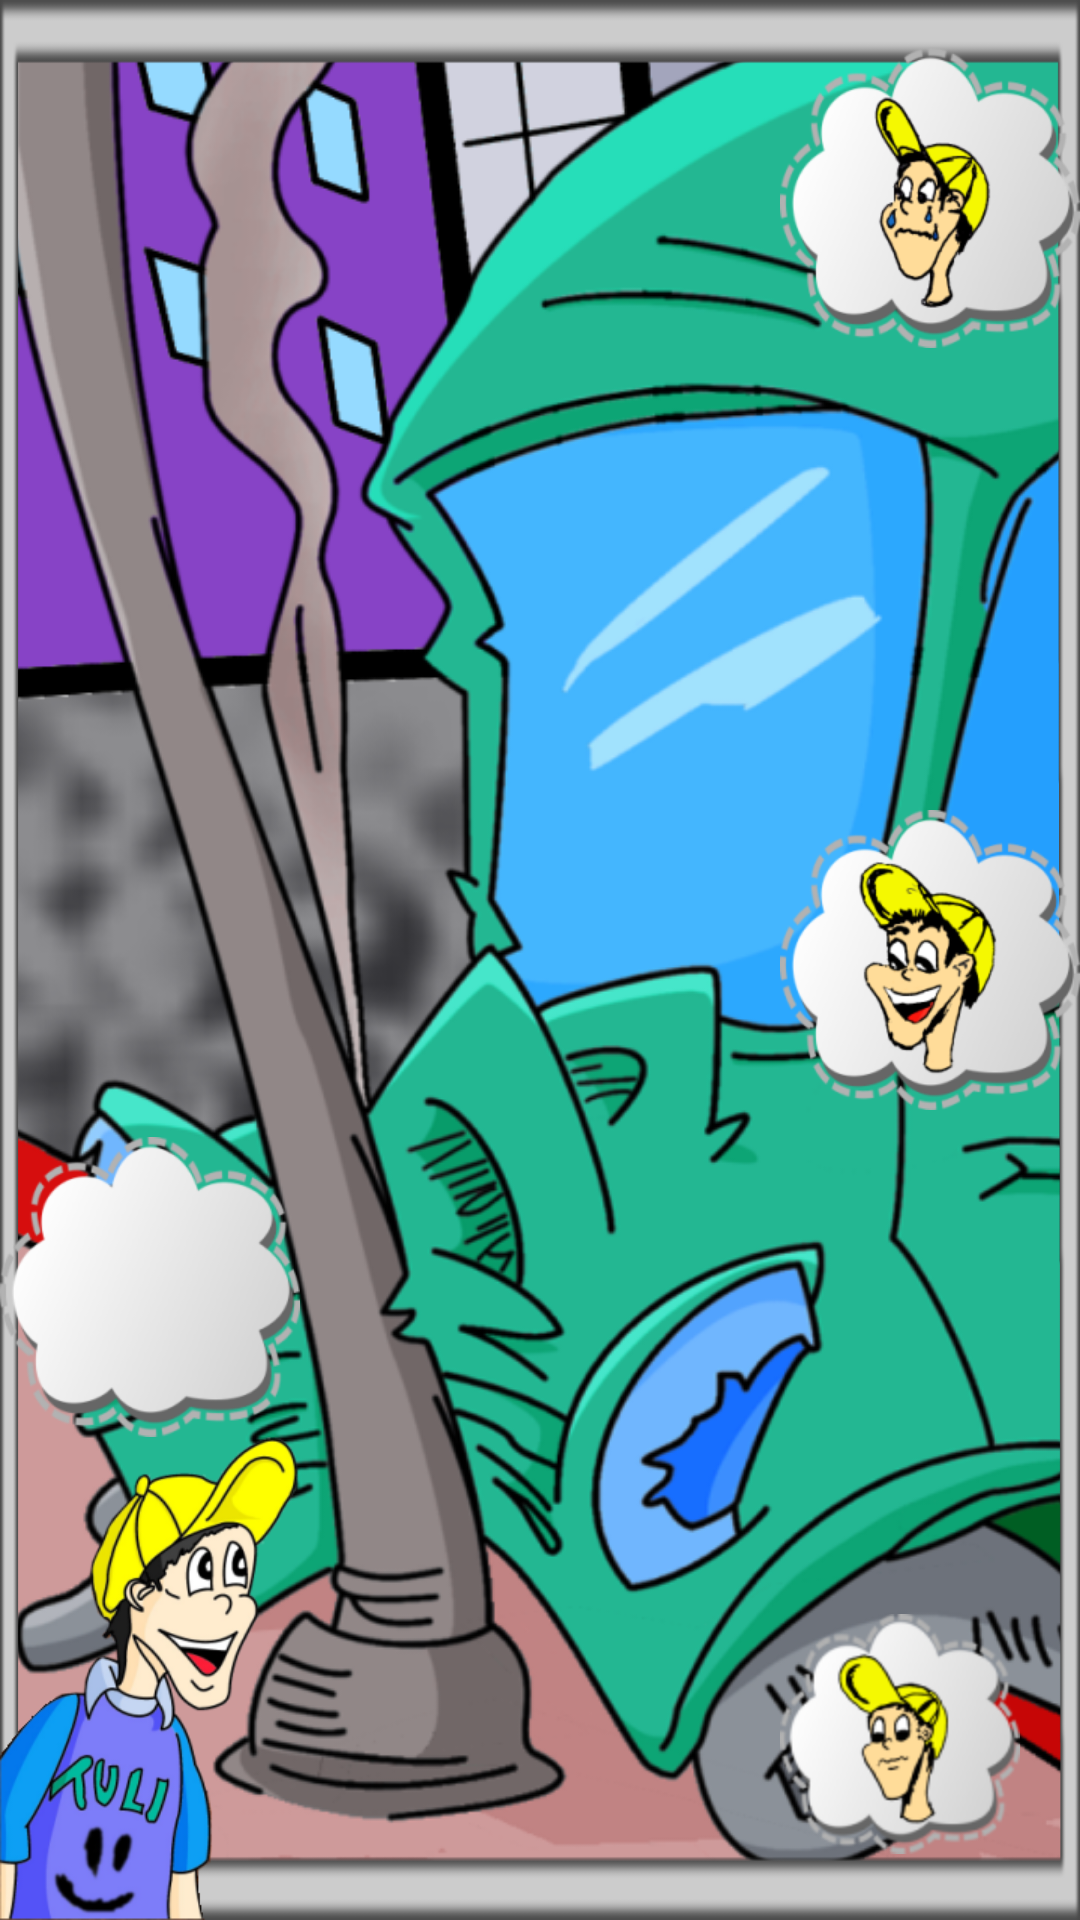

Where to tap for icons on this 1080×1920 app screen, as (x=x, y=y):
1happy: (x=930, y=960)
2sad: (x=930, y=198)
3indifferent: (x=900, y=1734)
